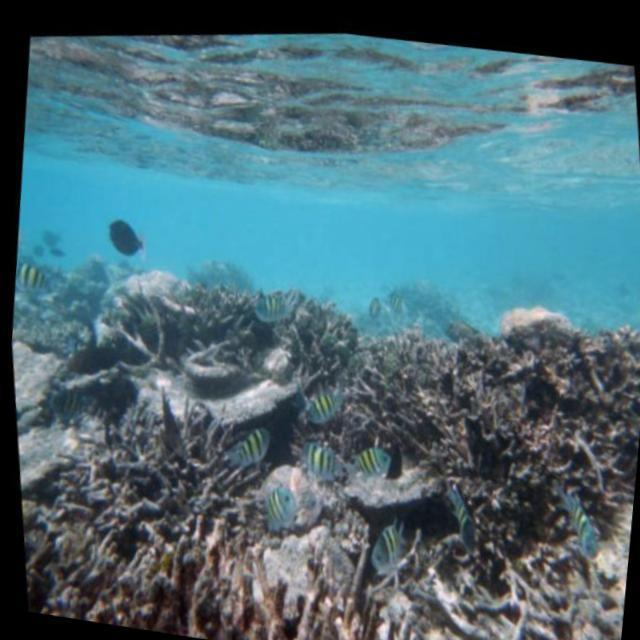Dead Coral: (2, 287, 640, 640)
